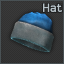Ded Moroz hat: (0, 0, 64, 64)
